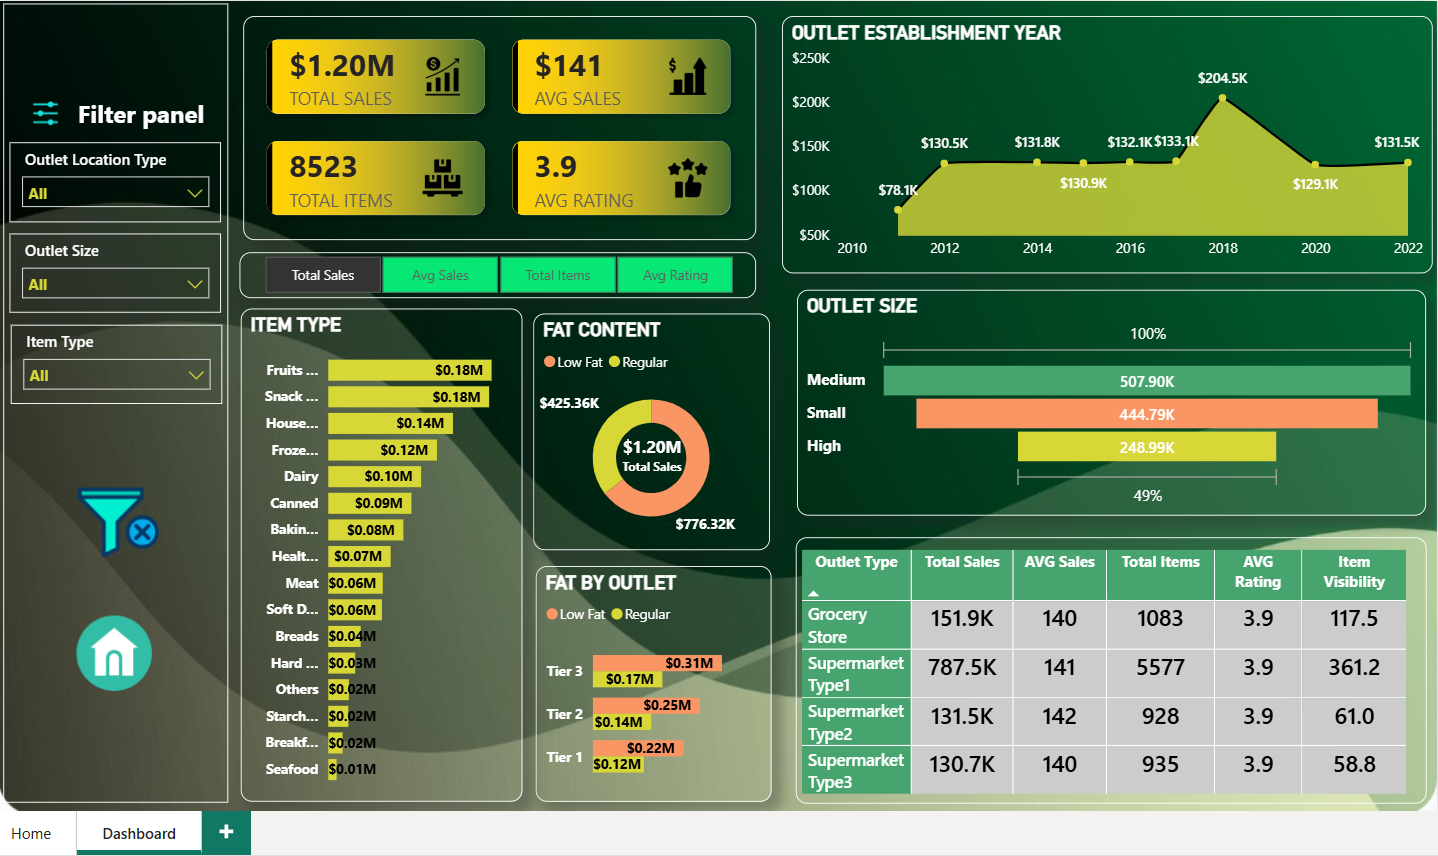

The page's visual inventory and layout, read from the dashboard file:
{"tool":"powerbi","page":{"name":"Dashboard","canvas":[1280,720],"ordinal":1},"visuals":[{"type":"shape","box":[6,2.6,200,710],"z":0,"group":"g1"},{"type":"cardVisual","fields":{"Data":["_All Measures.Total Sales","_All Measures.Average Sales","_All Measures.Total Items","_All Measures.Average Rating"]},"box":[219,13.1,456,198.8],"z":0},{"type":"group","id":"g1","title":"Group 3","box":[6,2.6,200,710],"z":1000},{"type":"lineChart","title":"OUTLET ESTABLISHMENT YEAR","fields":{"Category":["BlinkIT Grocery Data.Outlet Establishment Year"],"Y":["_All Measures.Total Sales"]},"box":[697.6,13.1,578.6,228.6],"z":2000},{"type":"actionButton","box":[67,542.3,75,75],"z":2000,"group":"g1"},{"type":"funnel","title":"OUTLET SIZE","fields":{"Category":["BlinkIT Grocery Data.Outlet Size"],"Y":["Sum(BlinkIT Grocery Data.Sales)"]},"box":[710.7,257.1,559.5,201.2],"z":3000},{"type":"donutChart","title":"FAT CONTENT","fields":{"Y":["_All Measures.Total Sales"],"Category":["BlinkIT Grocery Data.Item Fat Content"]},"box":[477.2,277.4,210,210],"z":3000,"group":"g2"},{"type":"slicer","fields":{"Values":["METRICS 2.METRICS"]},"box":[215.5,223.8,459.5,40.5],"z":4000},{"type":"actionButton","box":[65.5,81.2,125,35],"z":5000,"group":"g1"},{"type":"pivotTable","title":"OUTLET TYPE","fields":{"Rows":["BlinkIT Grocery Data.Outlet Type"],"Values":["_All Measures.Total Sales","_All Measures.Average Sales","_All Measures.Total Items","_All Measures.Average Rating","Sum(BlinkIT Grocery Data.Item Visibility)"]},"box":[710.3,476.1,560.8,236.4],"z":5000},{"type":"actionButton","box":[25.8,82.9,44,35.2],"z":6000,"group":"g1"},{"type":"group","id":"g2","title":"Group 4","box":[477.2,277.4,210,210],"z":6000},{"type":"slicer","fields":{"Values":["BlinkIT Grocery Data.Outlet Location Type"]},"box":[12,126.4,188.1,71.4],"z":7000,"group":"g1"},{"type":"clusteredBarChart","title":"FAT BY OUTLET","fields":{"Y":["_All Measures.Total Sales"],"Category":["BlinkIT Grocery Data.Outlet Location Type"],"Series":["BlinkIT Grocery Data.Item Fat Content"]},"box":[478.6,502.4,209.5,209.5],"z":7000},{"type":"slicer","fields":{"Values":["BlinkIT Grocery Data.Outlet Size"]},"box":[12,207.4,188.1,70.2],"z":8000,"group":"g1"},{"type":"barChart","title":"ITEM TYPE","fields":{"Y":["_All Measures.Total Sales"],"Category":["BlinkIT Grocery Data.Item Type"]},"box":[216.7,273.8,250,438.1],"z":8000},{"type":"slicer","fields":{"Values":["BlinkIT Grocery Data.Item Type"]},"box":[13.1,288.3,188.1,70.2],"z":9000,"group":"g1"},{"type":"cardVisual","fields":{"Data":["_All Measures.Total Sales"]},"box":[522.6,367.9,120.2,70.2],"z":9000},{"type":"actionButton","box":[68.7,423.7,80.3,80.3],"z":10000,"group":"g1"}]}

Visuals, with their boxes in screenshot pixels (x1, y1, x2, y2):
shape: bbox=(0, 0, 229, 807)
cardVisual - _All Measures.Total Sales x _All Measures.Average Sales: bbox=(244, 4, 768, 232)
"Group 3" group: bbox=(0, 0, 229, 807)
"OUTLET ESTABLISHMENT YEAR" lineChart: bbox=(794, 4, 1437, 266)
actionButton: bbox=(69, 612, 156, 698)
"OUTLET SIZE" funnel: bbox=(809, 284, 1437, 515)
"FAT CONTENT" donutChart: bbox=(541, 307, 782, 549)
slicer - METRICS 2.METRICS: bbox=(240, 246, 768, 292)
actionButton: bbox=(68, 82, 211, 122)
"OUTLET TYPE" pivotTable: bbox=(808, 536, 1437, 807)
actionButton: bbox=(22, 84, 73, 124)
"Group 4" group: bbox=(541, 307, 782, 549)
slicer - BlinkIT Grocery Data.Outlet Location Type: bbox=(6, 134, 222, 216)
"FAT BY OUTLET" clusteredBarChart: bbox=(542, 566, 783, 806)
slicer - BlinkIT Grocery Data.Outlet Size: bbox=(6, 227, 222, 308)
"ITEM TYPE" barChart: bbox=(241, 303, 529, 806)
slicer - BlinkIT Grocery Data.Item Type: bbox=(8, 320, 224, 401)
cardVisual - _All Measures.Total Sales: bbox=(593, 411, 731, 492)
actionButton: bbox=(71, 475, 164, 568)
